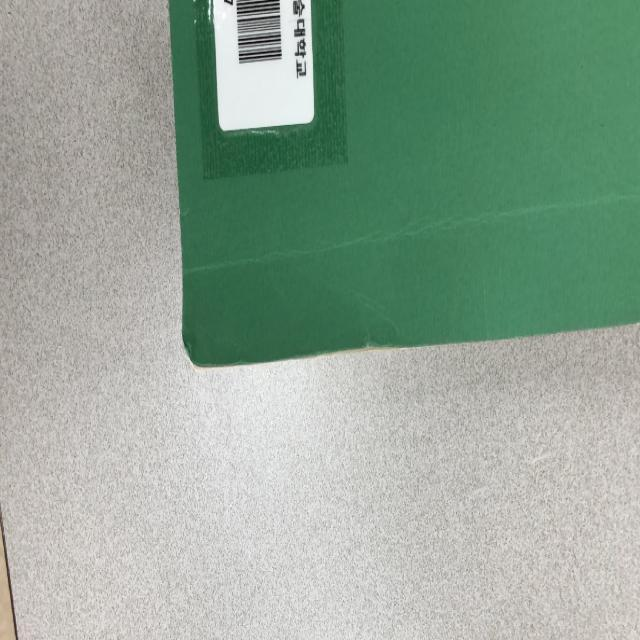Ripped: (355, 314, 399, 359)
Wornout: (176, 329, 355, 371)
